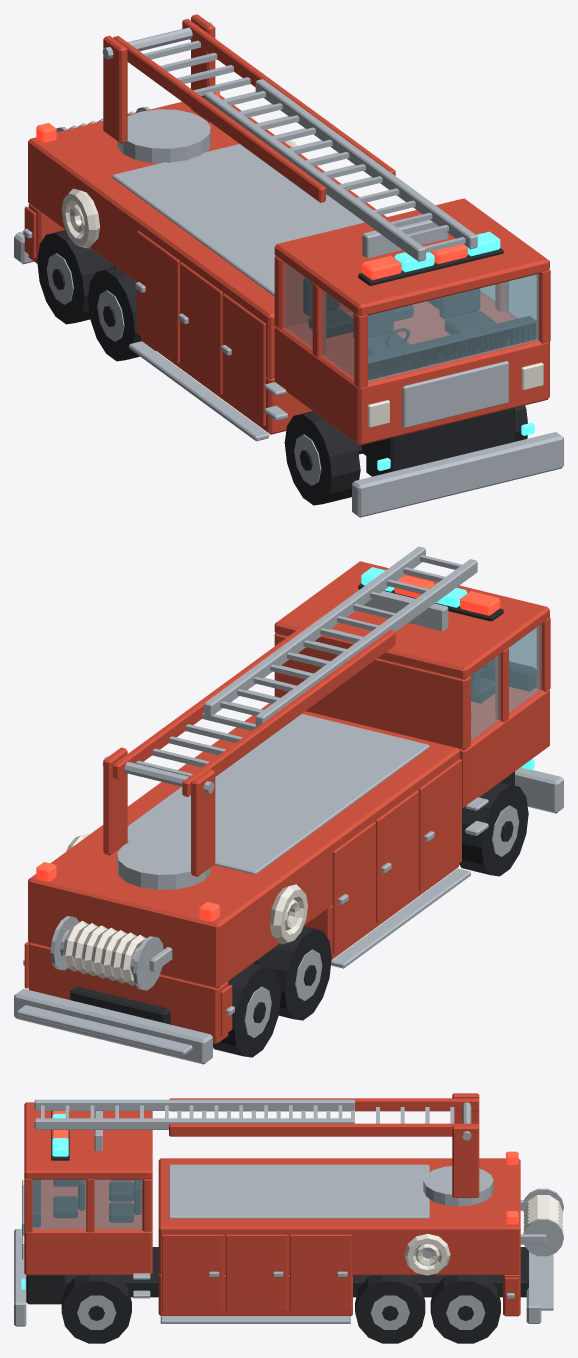
File: ladder-fire-truck.glb
The picture shows the model from 3 angles, top to bottom: view 1: azimuth 30°, elevation 25°; view 2: azimuth 150°, elevation 25°; view 3: azimuth 270°, elevation 25°; orthographic projection. The views are drawn at different scales.
Visible parts, largest first — view 1: FireTruck_Body, Ladder_Fly, Ladder, Turntable, Wheel_FL, Door_L1, Door_L2, Door_L3, Wheel_RL, Wheel_ML, Lights_Red, Lights_Blue; view 2: FireTruck_Body, Ladder_Fly, Turntable, Ladder, HoseReel, Wheel_FL, Door_L3, Door_L1, Door_L2, Wheel_ML, Wheel_RL, Lights_Red (+1 smaller); view 3: FireTruck_Body, Ladder_Fly, Ladder, Door_R3, Door_R1, Door_R2, Turntable, Wheel_FR, Wheel_MR, Wheel_RR, HoseReel, Lights_Red (+2 smaller).
Boxes of the visible parts, x1,y1,x2,y2 form: FireTruck_Body: [14, 95, 563, 517]; Ladder_Fly: [204, 79, 477, 261]; Ladder: [113, 19, 395, 202]; Turntable: [102, 14, 215, 163]; Wheel_FL: [284, 411, 360, 505]; Door_L1: [221, 293, 265, 426]; Door_L2: [178, 262, 222, 394]; Door_L3: [135, 231, 179, 363]; Wheel_RL: [37, 230, 110, 324]; Wheel_ML: [88, 267, 155, 361]; Lights_Red: [36, 91, 467, 280]; Lights_Blue: [377, 231, 534, 470]; FireTruck_Body: [14, 561, 563, 1064]; Ladder_Fly: [204, 546, 477, 726]; Turntable: [102, 747, 215, 889]; Ladder: [112, 613, 395, 796]; HoseReel: [50, 916, 163, 990]; Wheel_FL: [459, 782, 528, 876]; Door_L3: [332, 822, 375, 954]; Door_L1: [418, 759, 461, 891]; Door_L2: [375, 790, 418, 922]; Wheel_ML: [258, 926, 331, 1020]; Wheel_RL: [213, 963, 281, 1057]; Lights_Red: [36, 575, 500, 921]; FireTruck_Body: [14, 1102, 553, 1326]; Ladder_Fly: [34, 1099, 354, 1129]; Ladder: [169, 1098, 479, 1136]; Door_R3: [290, 1234, 351, 1311]; Door_R1: [162, 1234, 223, 1311]; Door_R2: [226, 1234, 287, 1311]; Turntable: [423, 1093, 493, 1206]; Wheel_FR: [61, 1275, 131, 1343]; Wheel_MR: [355, 1275, 425, 1343]; Wheel_RR: [430, 1275, 500, 1343]; HoseReel: [522, 1188, 563, 1256]; Lights_Red: [52, 1111, 518, 1224].
Size of the model in its own units: 9.13 by 10.56 by 26.6.
